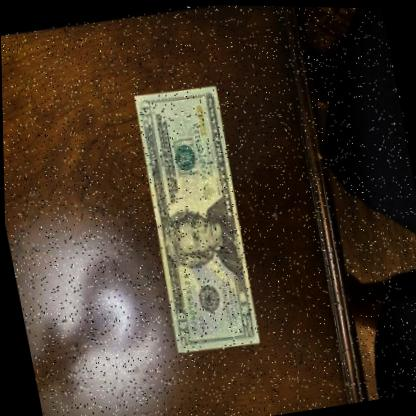twenty-front: (127, 78, 265, 355)
